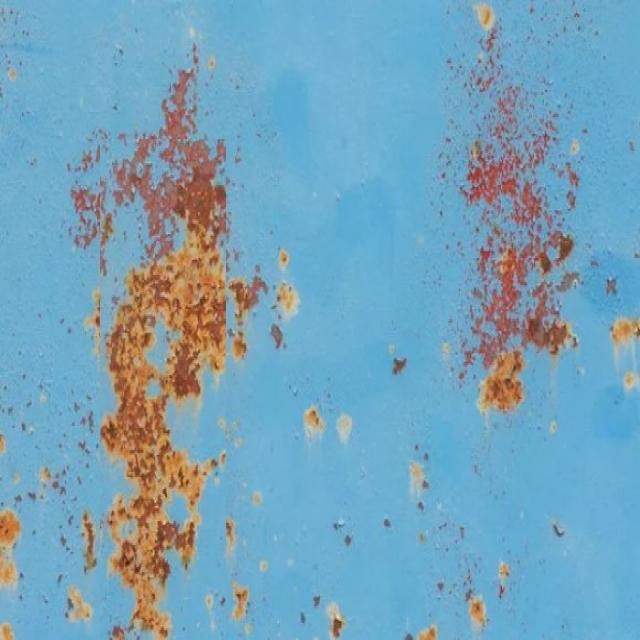Corrosion: (72, 68, 226, 640), (462, 30, 579, 412), (0, 511, 20, 588), (0, 511, 20, 550), (0, 626, 13, 640)
